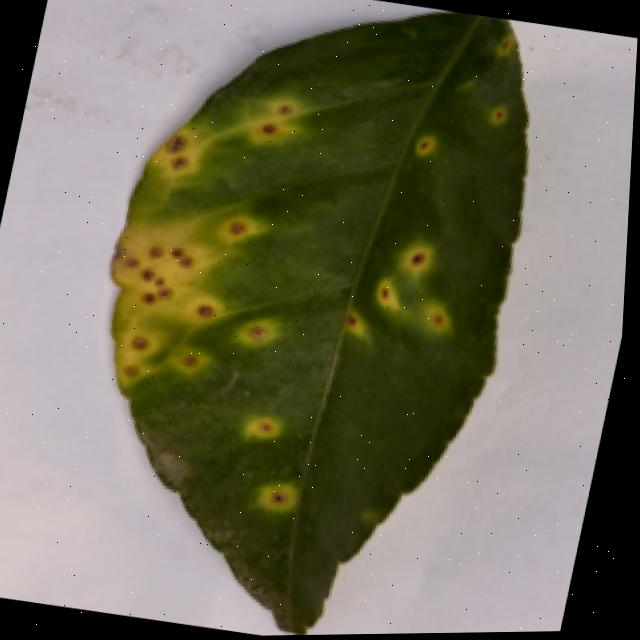canker: (114, 14, 527, 633), (68, 62, 337, 416), (309, 225, 482, 360), (243, 468, 306, 527), (233, 403, 291, 455), (393, 119, 448, 161), (481, 23, 522, 65), (473, 91, 516, 128)
